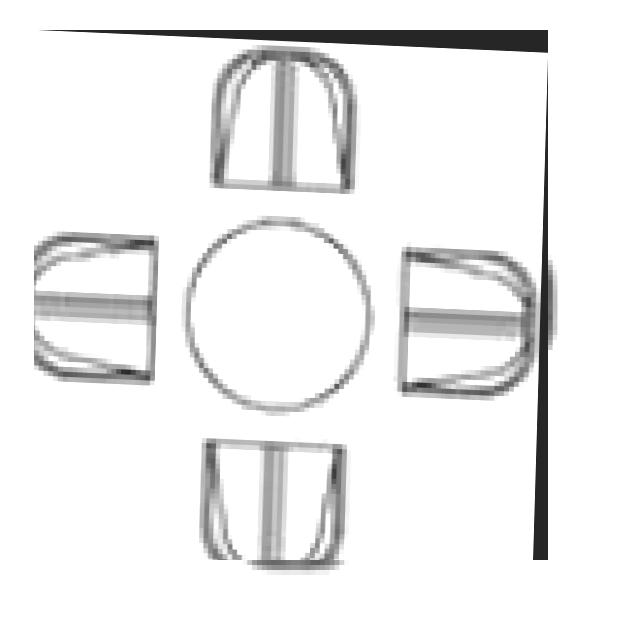table: (34, 30, 548, 560)
